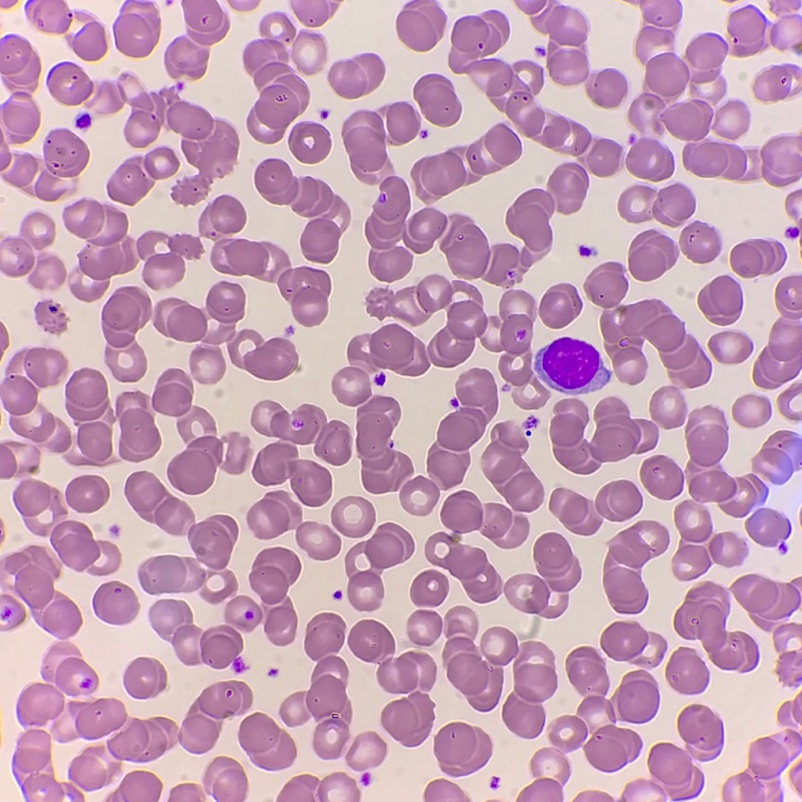RBC: (448, 11, 622, 176), (97, 74, 238, 204), (441, 164, 588, 285), (585, 262, 710, 387), (154, 282, 297, 379), (348, 275, 486, 375), (628, 35, 727, 139), (280, 613, 351, 758), (533, 2, 627, 107), (255, 159, 349, 262), (685, 407, 763, 516), (243, 14, 308, 143), (412, 124, 520, 201), (550, 398, 657, 473), (443, 606, 517, 711), (13, 729, 120, 801), (199, 196, 288, 281), (0, 546, 81, 638), (674, 582, 757, 671), (64, 200, 135, 300), (648, 705, 722, 799), (566, 647, 658, 722), (150, 599, 242, 670), (348, 620, 435, 693), (247, 491, 340, 559), (505, 533, 580, 617), (252, 401, 350, 464), (603, 521, 668, 613), (345, 523, 413, 610), (6, 130, 88, 200), (674, 500, 745, 580), (342, 102, 420, 172), (17, 657, 97, 725), (356, 396, 412, 493), (753, 276, 801, 388), (178, 681, 251, 752), (425, 533, 500, 602), (502, 642, 556, 737), (487, 423, 543, 511), (437, 369, 497, 451), (253, 443, 331, 506), (168, 433, 248, 494), (441, 491, 528, 547), (365, 176, 411, 281), (250, 548, 299, 645), (102, 286, 150, 381), (139, 555, 236, 602), (0, 348, 66, 415), (66, 369, 112, 465), (125, 471, 192, 534), (107, 148, 177, 204), (732, 574, 801, 630), (51, 521, 120, 574), (499, 290, 535, 385), (734, 737, 787, 801), (1, 213, 54, 276), (137, 231, 202, 280), (239, 713, 295, 769), (618, 185, 694, 226), (116, 392, 160, 461), (107, 717, 176, 761), (434, 722, 491, 775), (278, 267, 330, 325), (683, 141, 758, 180), (601, 622, 666, 666), (381, 693, 433, 746), (14, 480, 63, 535), (188, 515, 237, 569), (585, 725, 641, 771), (114, 1, 160, 56), (396, 0, 445, 51), (636, 0, 679, 57), (0, 38, 40, 99), (329, 54, 384, 98), (629, 230, 677, 280), (414, 74, 460, 126), (550, 488, 599, 534), (68, 699, 125, 738), (181, 0, 228, 45), (698, 276, 741, 324), (761, 136, 801, 186), (730, 240, 783, 277), (666, 647, 708, 693), (626, 139, 673, 180), (47, 63, 93, 104), (539, 284, 581, 328), (641, 455, 683, 499), (93, 582, 137, 624), (152, 369, 192, 415), (728, 9, 766, 56), (596, 481, 641, 520), (331, 497, 374, 537), (164, 38, 208, 77), (407, 208, 446, 252), (69, 746, 120, 779), (427, 448, 469, 488), (124, 658, 166, 698), (0, 102, 39, 143), (289, 123, 330, 162), (746, 509, 789, 546), (108, 771, 161, 801), (680, 223, 720, 262), (66, 475, 108, 512), (213, 757, 247, 801), (347, 732, 386, 770), (650, 386, 685, 428), (332, 367, 370, 405), (69, 22, 106, 60), (400, 477, 438, 514), (28, 0, 71, 32), (709, 331, 751, 363), (292, 33, 325, 73), (411, 570, 448, 605), (754, 66, 792, 100), (714, 101, 748, 138), (225, 596, 261, 630), (550, 716, 586, 749), (733, 395, 770, 427), (770, 15, 801, 53), (758, 431, 792, 465), (408, 610, 441, 645), (292, 0, 334, 26), (178, 408, 214, 438), (277, 775, 316, 801), (518, 778, 562, 801), (36, 300, 66, 333), (424, 780, 466, 801), (777, 651, 801, 685), (0, 595, 25, 627), (27, 413, 55, 441), (38, 256, 65, 281), (773, 624, 801, 648), (778, 695, 801, 724), (778, 383, 801, 410), (0, 443, 16, 478), (169, 784, 199, 801), (50, 428, 71, 452), (770, 0, 799, 13), (191, 347, 220, 360), (576, 791, 612, 801), (20, 455, 38, 473), (790, 764, 801, 792), (523, 0, 545, 13), (786, 730, 801, 748), (621, 784, 636, 801), (52, 643, 74, 654), (11, 418, 25, 434), (29, 273, 44, 287), (318, 781, 328, 801), (0, 150, 10, 169), (0, 326, 8, 349), (723, 786, 732, 801), (71, 456, 83, 465), (350, 789, 359, 801), (80, 116, 90, 126), (335, 772, 345, 781), (0, 0, 14, 6), (530, 399, 539, 408), (364, 174, 372, 182), (796, 136, 801, 146), (797, 412, 801, 420)
